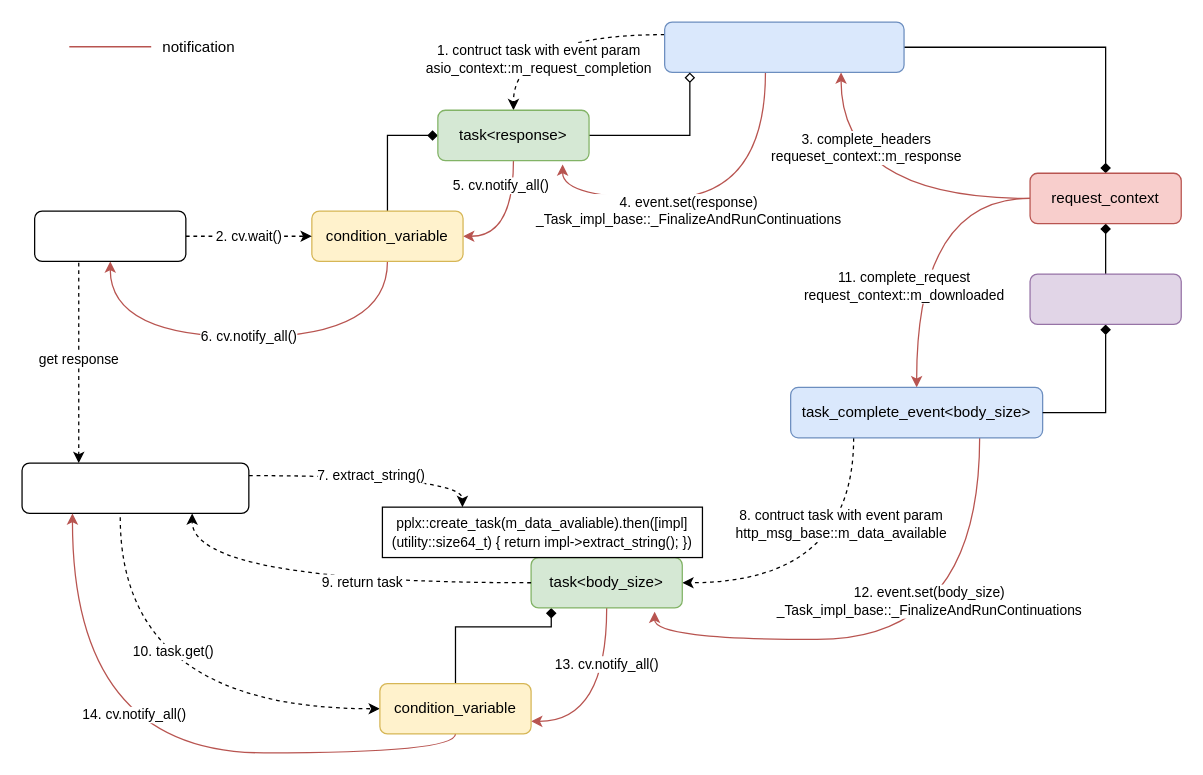
Image size: 1203x775. Some labels were removed from this diagram. Here are the shapes that lost their labels. From the top down, the centre of each, then its label:
pixel 783 46: task_complete_event<response>
pixel 109 235: task.get()
pixel 1105 298: response
pixel 135 487: response.extract_string().get()
